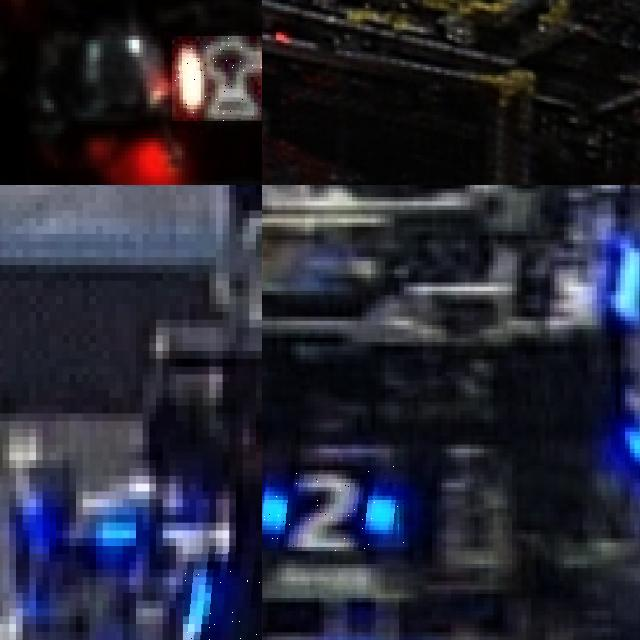B1: (182, 546, 262, 640)
B2: (262, 465, 404, 551)
Rs: (171, 35, 262, 121)
